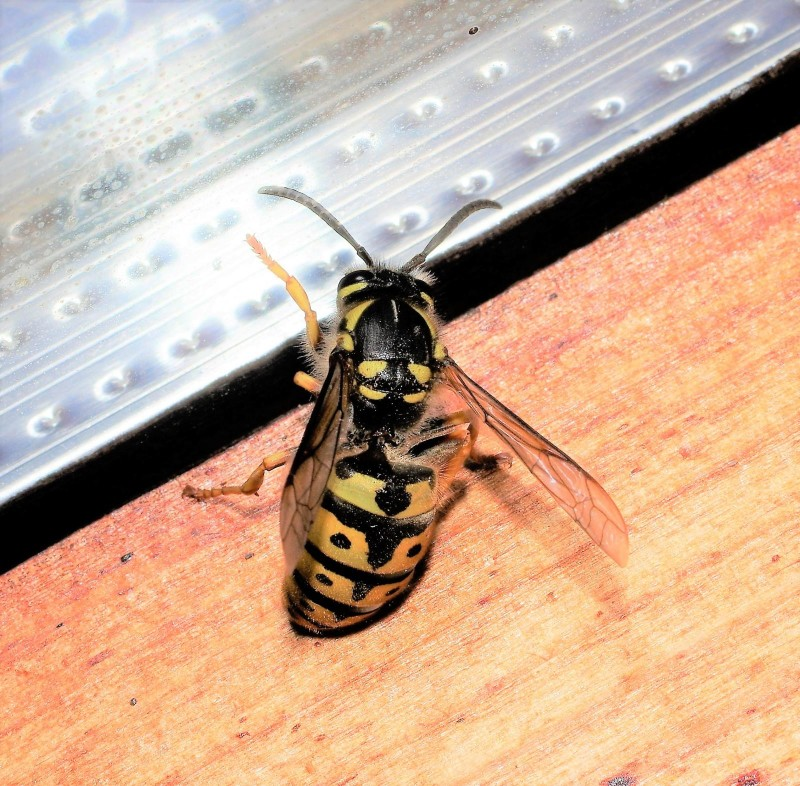chax: (167, 167, 658, 660)
